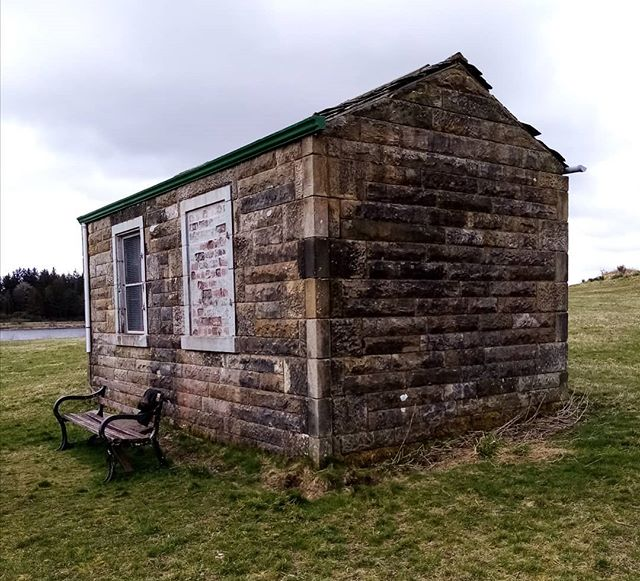bench: (58, 382, 172, 472)
building: (58, 65, 574, 476)
